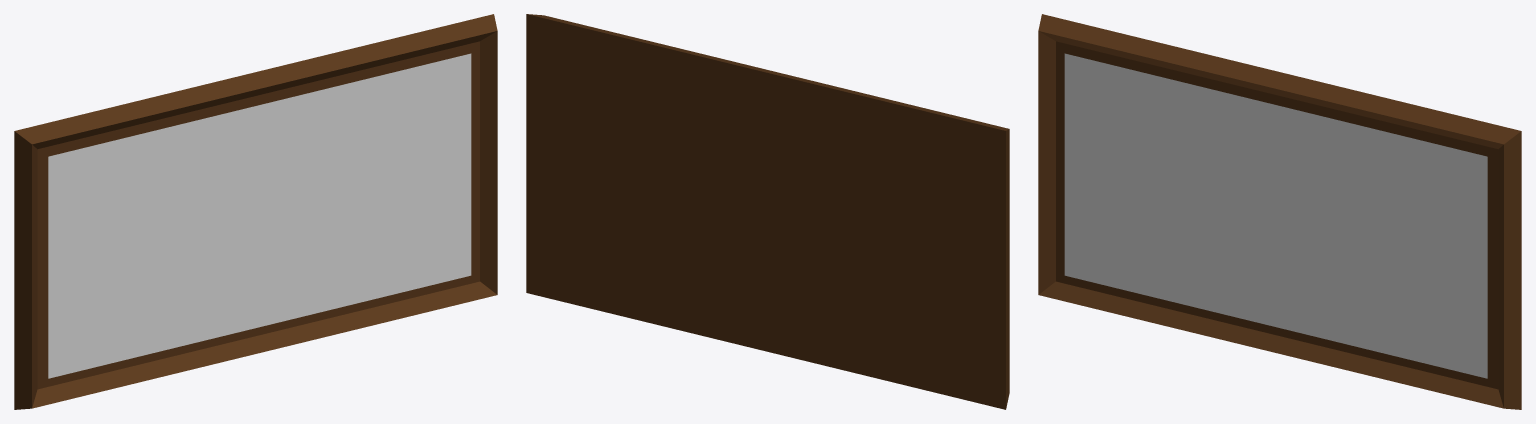
3 views of the same model, side by side, from view 1: azimuth 30°, elevation 25°; view 2: azimuth 150°, elevation 25°; view 3: azimuth 330°, elevation 25° (orthographic).
Parts seen in each view (by area): view 1: picture_057; view 2: picture_057; view 3: picture_057.
Boxes of the visible parts, left/top/right/bottom form: picture_057: left=14, top=14, right=497, bottom=409; picture_057: left=526, top=14, right=1009, bottom=409; picture_057: left=1038, top=14, right=1521, bottom=409.
Bounding box in the file's own units: 1.47 × 0.8166 × 0.0563.
